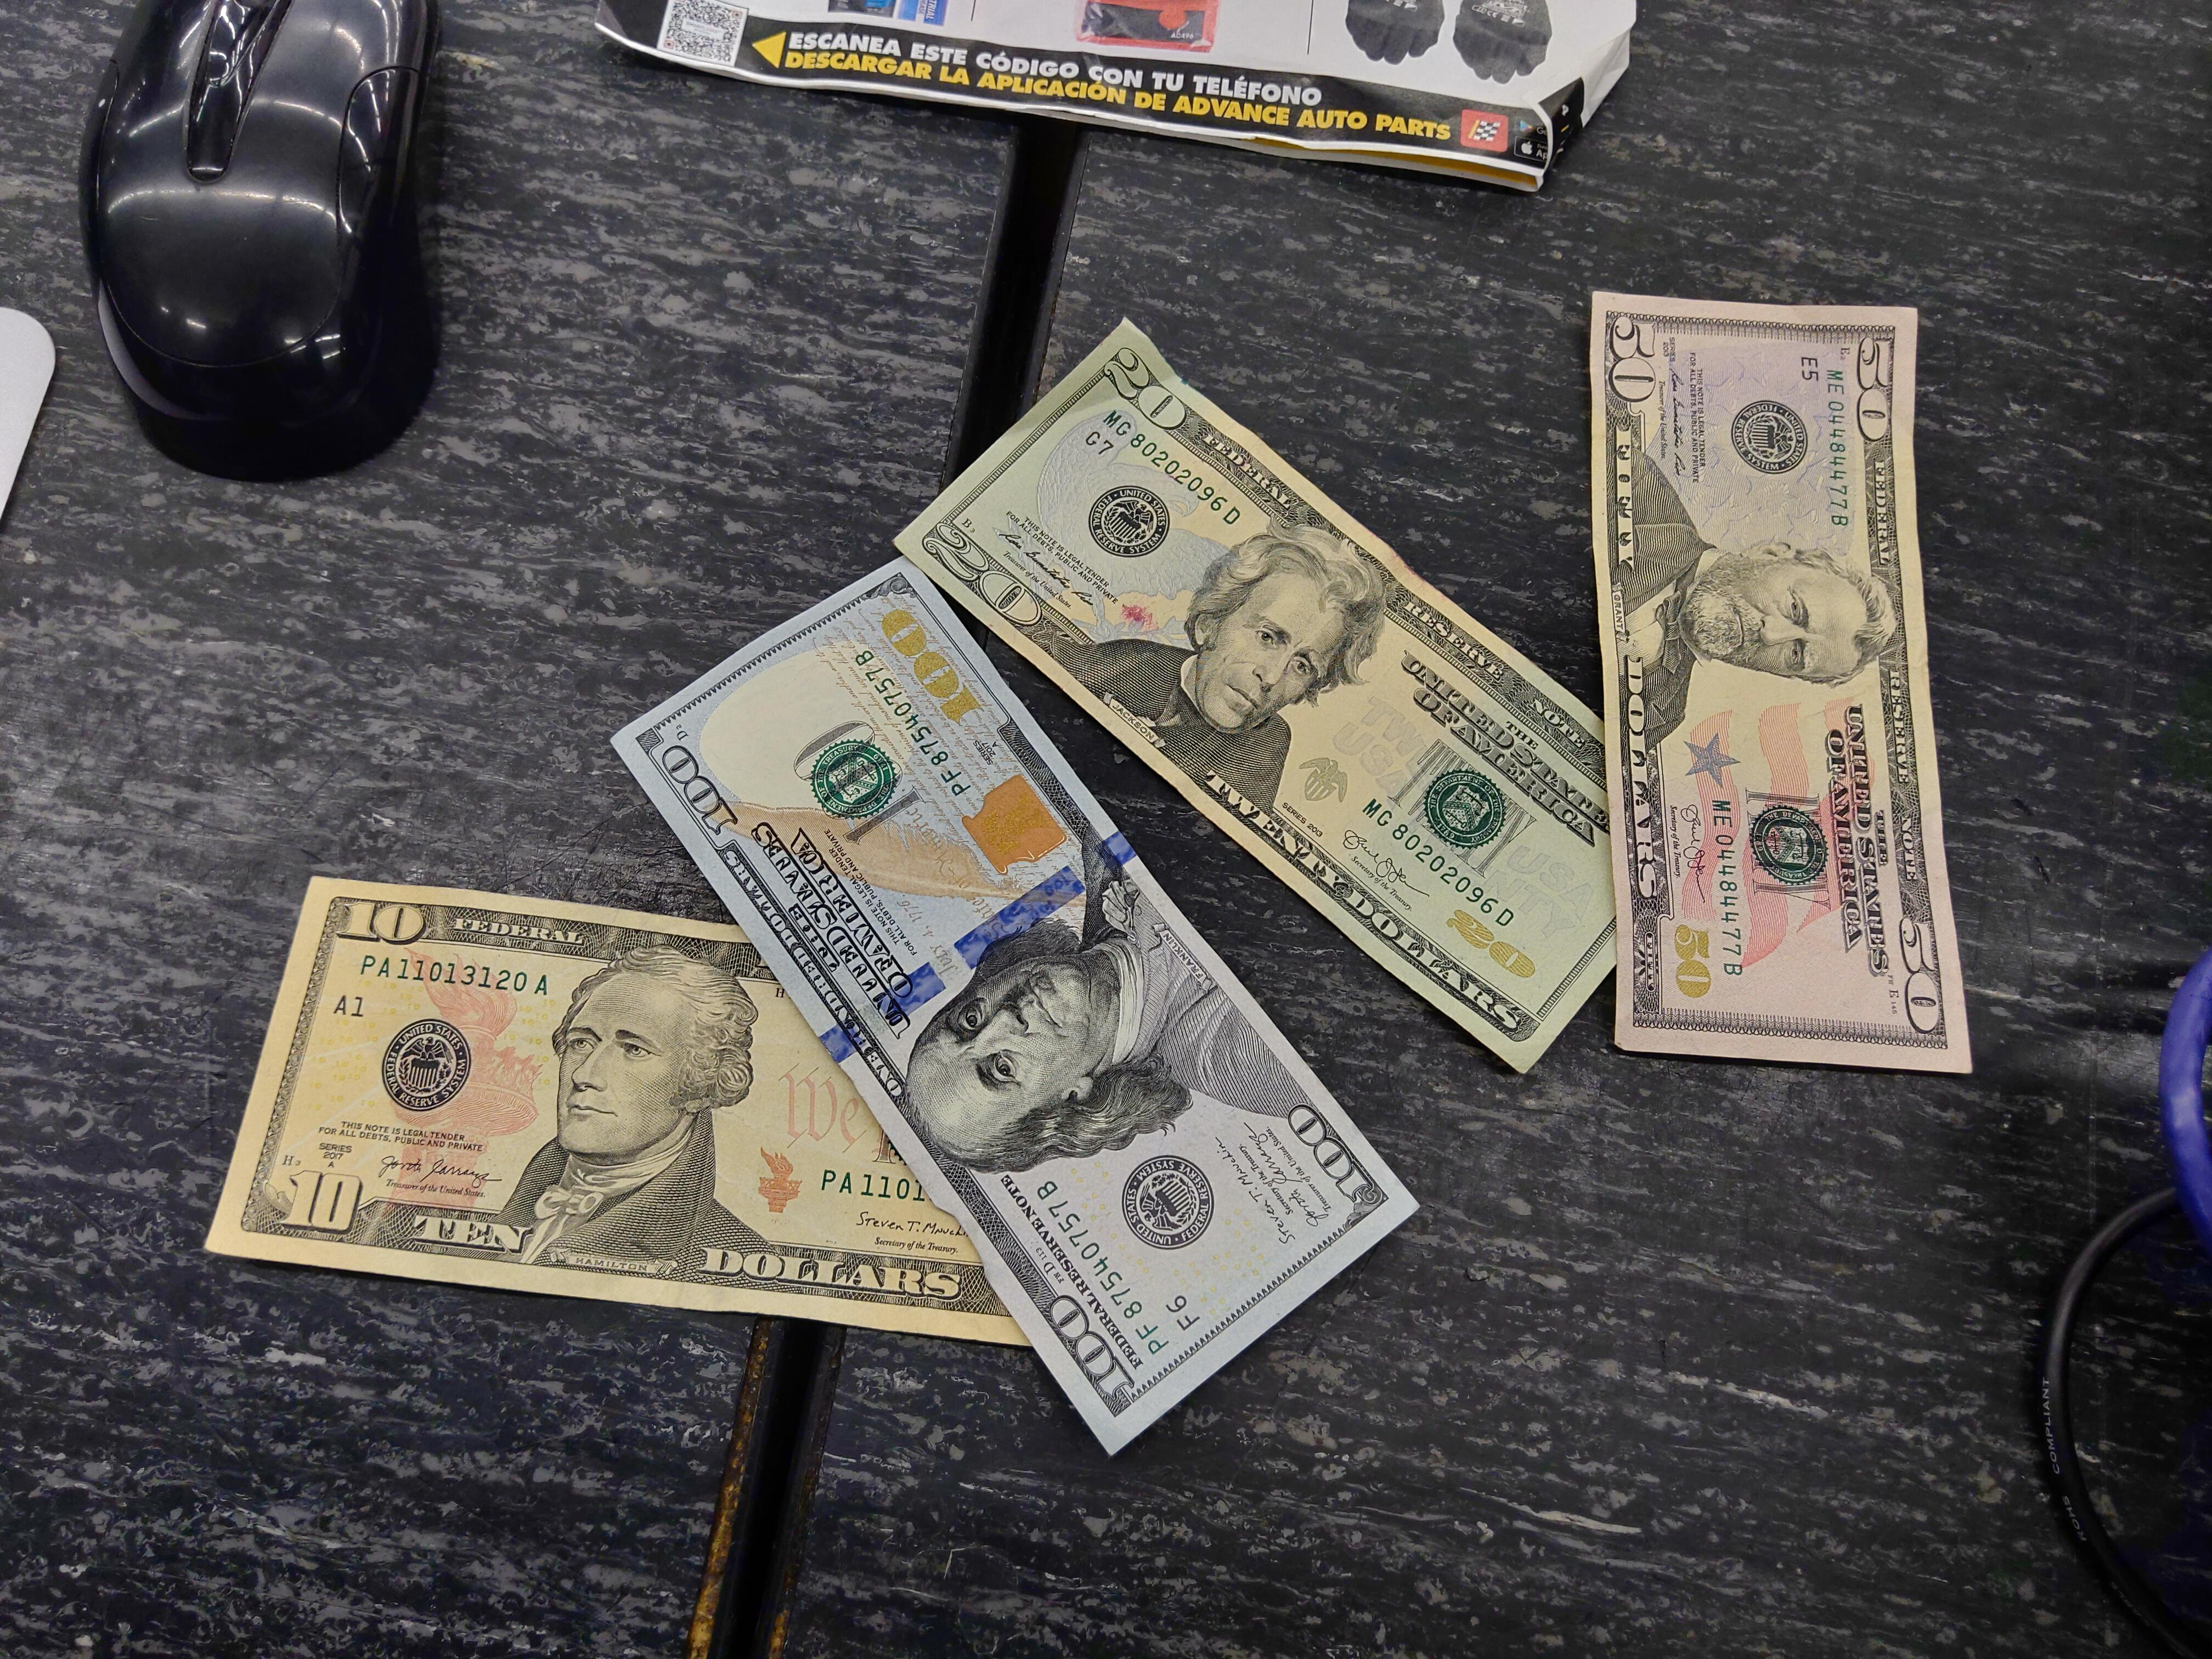FiftyBill: (1587, 286, 1977, 1068)
HundredBill: (608, 552, 1421, 1460)
TenBill: (197, 873, 1038, 1349)
TwentyBill: (888, 315, 1627, 1077)
